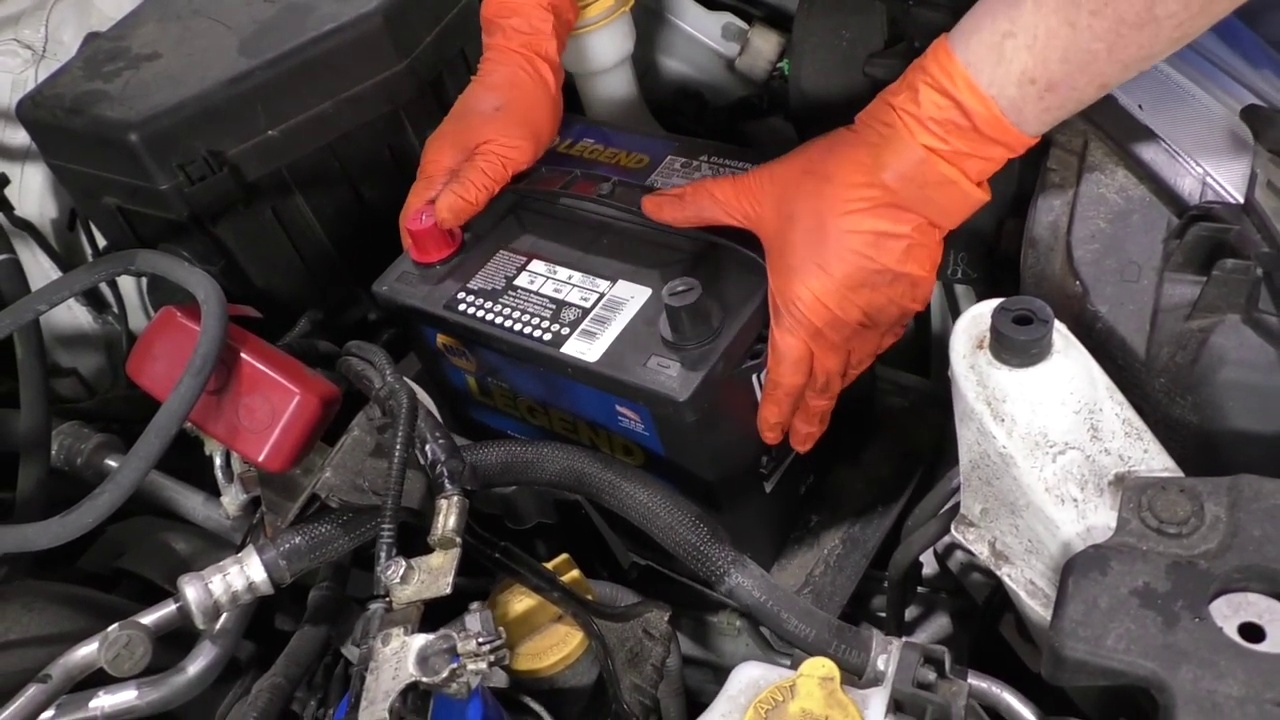battery: (376, 101, 801, 394)
pos_touched: (369, 158, 522, 280)
